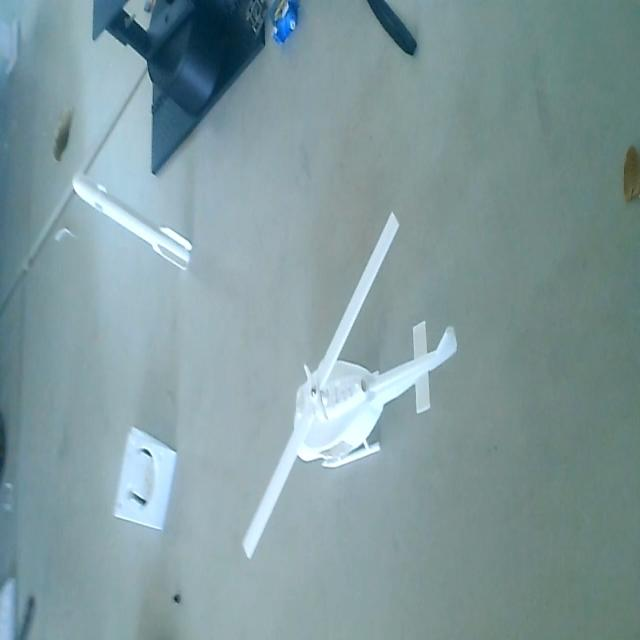Helicopter: (235, 212, 464, 562)
Rocket: (70, 168, 194, 276)
